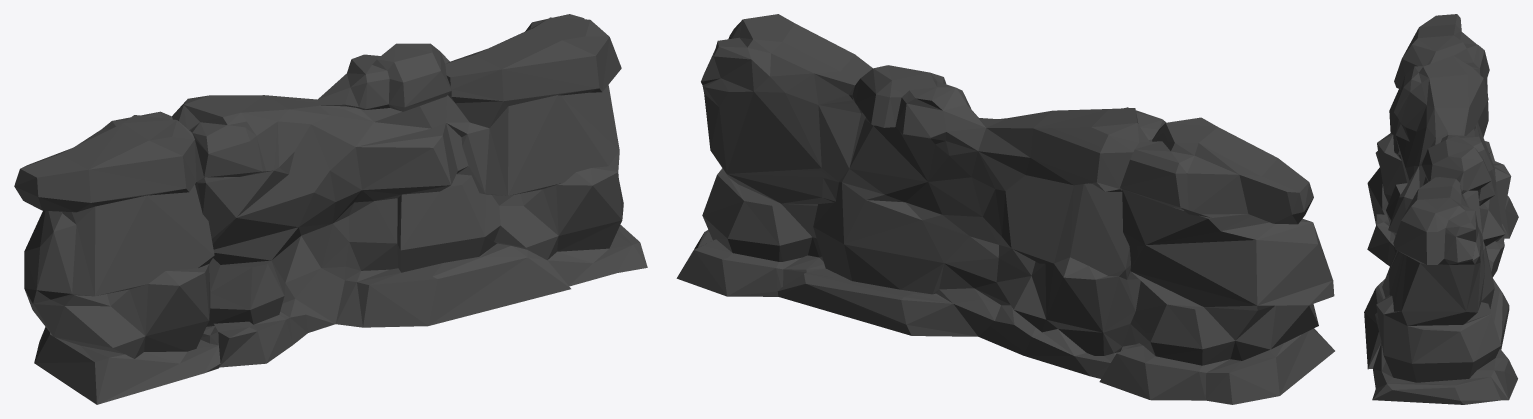
File: rock__rockform_wall_long_dark.glb
3 views of the same model, side by side, from view 1: azimuth 30°, elevation 25°; view 2: azimuth 150°, elevation 25°; view 3: azimuth 270°, elevation 25° (orthographic). The views are drawn at different scales.
Visible parts, largest first — view 1: rockform.wall.long.dark; view 2: rockform.wall.long.dark; view 3: rockform.wall.long.dark.
Boxes of the visible parts, x1,y1,x2,y2 form: rockform.wall.long.dark: (14,14,647,404); rockform.wall.long.dark: (676,14,1334,404); rockform.wall.long.dark: (1364,14,1518,404).
Bounding box in the file's own units: 42.26 × 15.35 × 11.8.
Materials: 1 (1 with a texture image).
